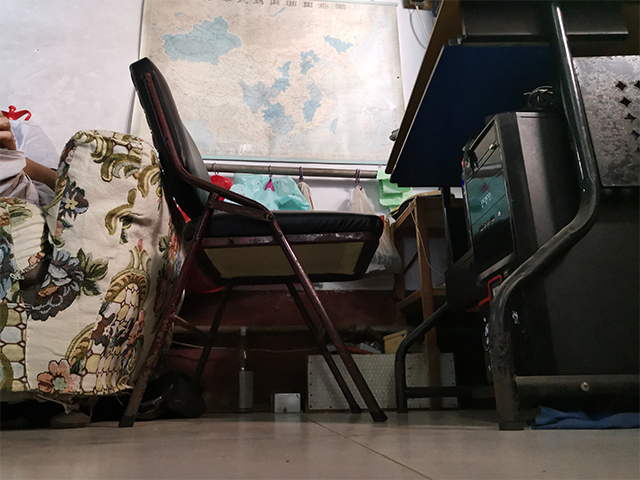stool: (116, 55, 389, 429)
table: (383, 1, 640, 432)
